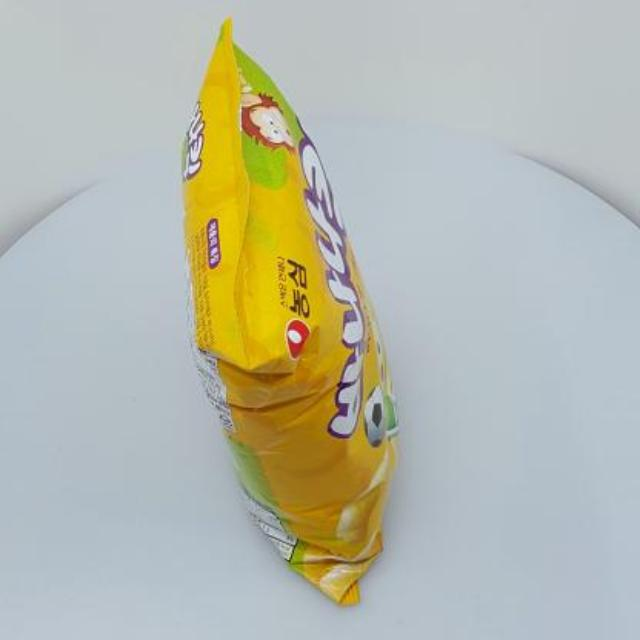snack_bag: (165, 14, 428, 616)
